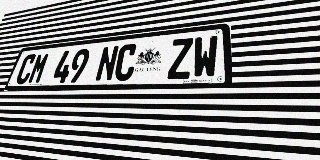4: (51, 50, 76, 83)
9: (66, 48, 91, 83)
C: (113, 43, 138, 81), (14, 54, 38, 84)
M: (27, 52, 51, 84)
N: (94, 45, 120, 82)
W: (192, 35, 218, 79)
Z: (167, 38, 193, 79)
